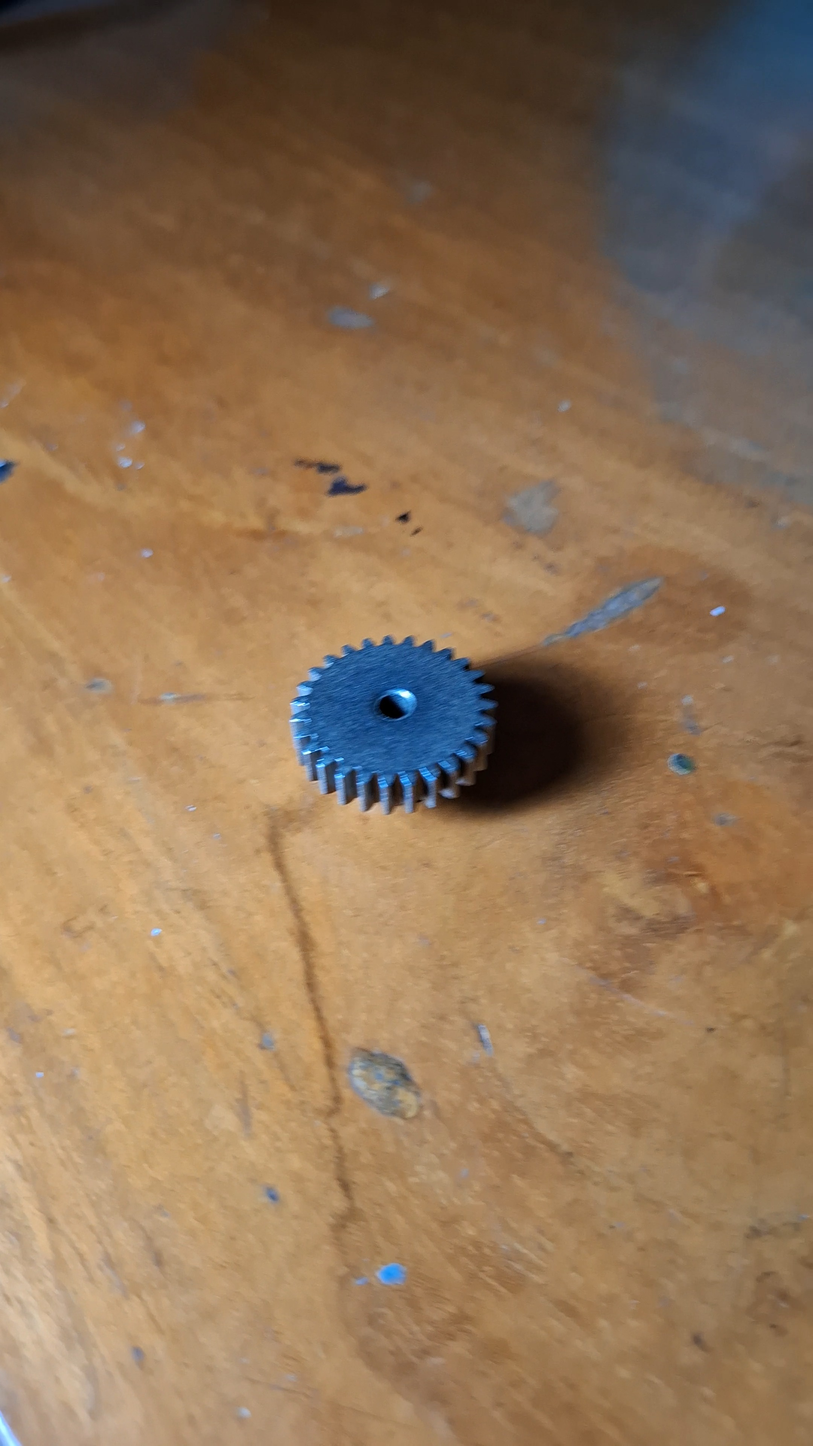spur gear: (291, 636, 496, 813)
